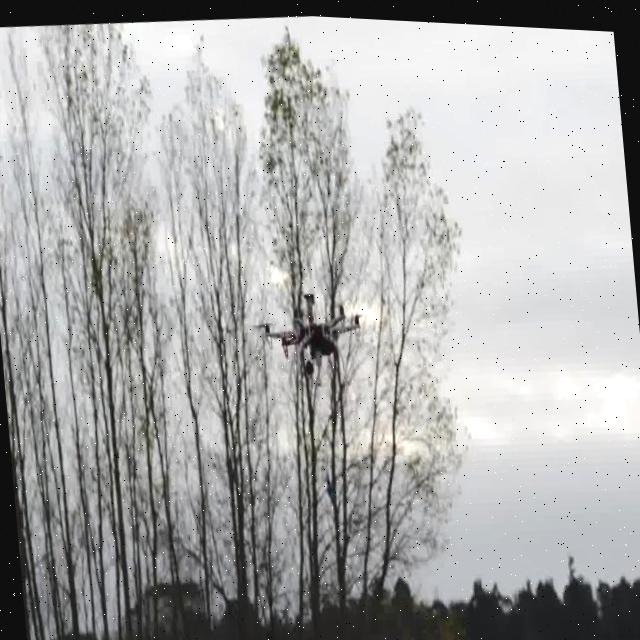drone: (254, 279, 366, 376)
